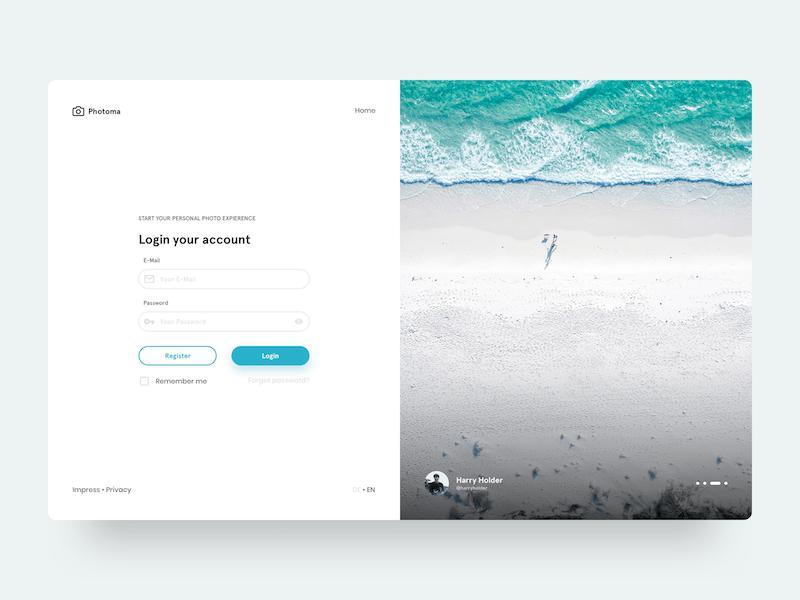button: (230, 347, 317, 369), (138, 348, 221, 368)
checkbox: (139, 375, 151, 390)
input: (136, 310, 317, 338), (136, 268, 313, 293)
label: (154, 380, 214, 388), (140, 255, 165, 266), (144, 301, 173, 308)
